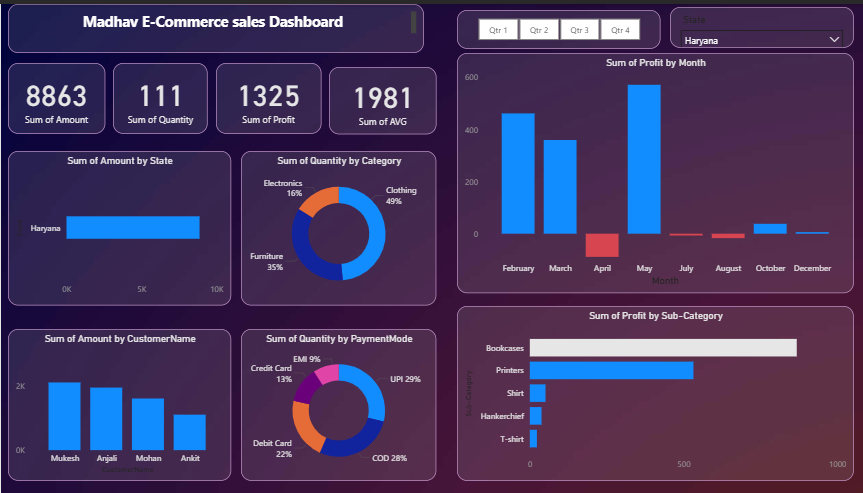

Layout of this report page (visuals, bound fields, positions):
{"tool":"powerbi","page":{"name":"Page 1","canvas":[1280,720],"ordinal":0},"visuals":[{"type":"textbox","box":[10.1,0,611.4,72.2],"z":0},{"type":"columnChart","fields":{"Category":["Orders.Order Date.Variation.Date Hierarchy.Month"],"Y":["Sum(Details.Profit)"]},"box":[670.2,72.2,582.9,352.8],"z":1000},{"type":"barChart","fields":{"Category":["Details.Sub-Category"],"Y":["Sum(Details.Profit)"]},"box":[670.2,443.5,582.9,257],"z":2000},{"type":"donutChart","fields":{"Category":["Details.Category"],"Y":["Sum(Details.Quantity)"]},"box":[352.8,216.7,287.2,226.8],"z":3000},{"type":"donutChart","fields":{"Category":["Details.PaymentMode"],"Y":["Sum(Details.Quantity)"]},"box":[352.8,477.1,287.2,223.4],"z":4000},{"type":"card","fields":{"Values":["Sum(Details.Amount)"]},"box":[10.1,87.3,142.8,104.1],"z":5000},{"type":"card","fields":{"Values":["Sum(Details.Quantity)"]},"box":[164.6,87.3,139.4,104.1],"z":6000},{"type":"card","fields":{"Values":["Sum(Details.Profit)"]},"box":[315.8,87.3,154.5,104.1],"z":7000},{"type":"card","fields":{"Values":["Sum(Details.AVG)"]},"box":[482.1,92.4,157.9,99.1],"z":8000},{"type":"barChart","fields":{"Category":["Orders.State"],"Y":["Sum(Details.Amount)"]},"box":[10.1,216.7,327.6,226.8],"z":9000},{"type":"columnChart","fields":{"Category":["Orders.CustomerName"],"Y":["Sum(Details.Amount)"]},"box":[10,477,328,223],"z":10000},{"type":"slicer","fields":{"Values":["Orders.Order Date.Variation.Date Hierarchy.Quarter"]},"box":[670.2,8.4,299,57.1],"z":11000},{"type":"slicer","fields":{"Values":["Orders.State"]},"box":[982.7,5,270.4,60.5],"z":12000}]}

Visuals, with their boxes in screenshot pixels (x1, y1, x2, y2), scaled from the page's 1280x720 canvas onto the 863x493 screenshot:
textbox: crop(7, 0, 419, 49)
columnChart - Orders.Order Date.Variation.Date Hierarchy.Month x Sum(Details.Profit): crop(452, 49, 845, 291)
barChart - Details.Sub-Category x Sum(Details.Profit): crop(452, 304, 845, 480)
donutChart - Details.Category x Sum(Details.Quantity): crop(238, 148, 432, 304)
donutChart - Details.PaymentMode x Sum(Details.Quantity): crop(238, 327, 432, 480)
card - Sum(Details.Amount): crop(7, 60, 103, 131)
card - Sum(Details.Quantity): crop(111, 60, 205, 131)
card - Sum(Details.Profit): crop(213, 60, 317, 131)
card - Sum(Details.AVG): crop(325, 63, 432, 131)
barChart - Orders.State x Sum(Details.Amount): crop(7, 148, 228, 304)
columnChart - Orders.CustomerName x Sum(Details.Amount): crop(7, 327, 228, 479)
slicer - Orders.Order Date.Variation.Date Hierarchy.Quarter: crop(452, 6, 653, 45)
slicer - Orders.State: crop(663, 3, 845, 45)
